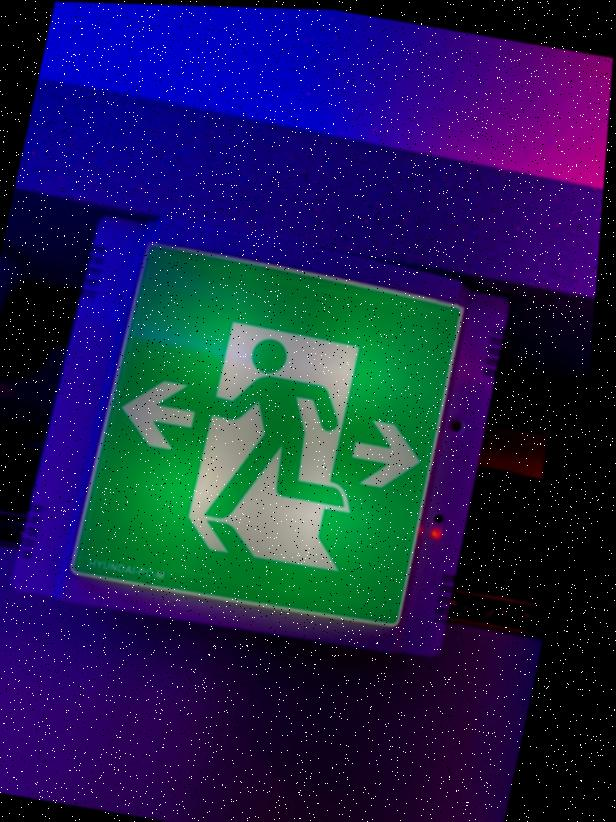emergency_exit: (68, 240, 481, 650)
